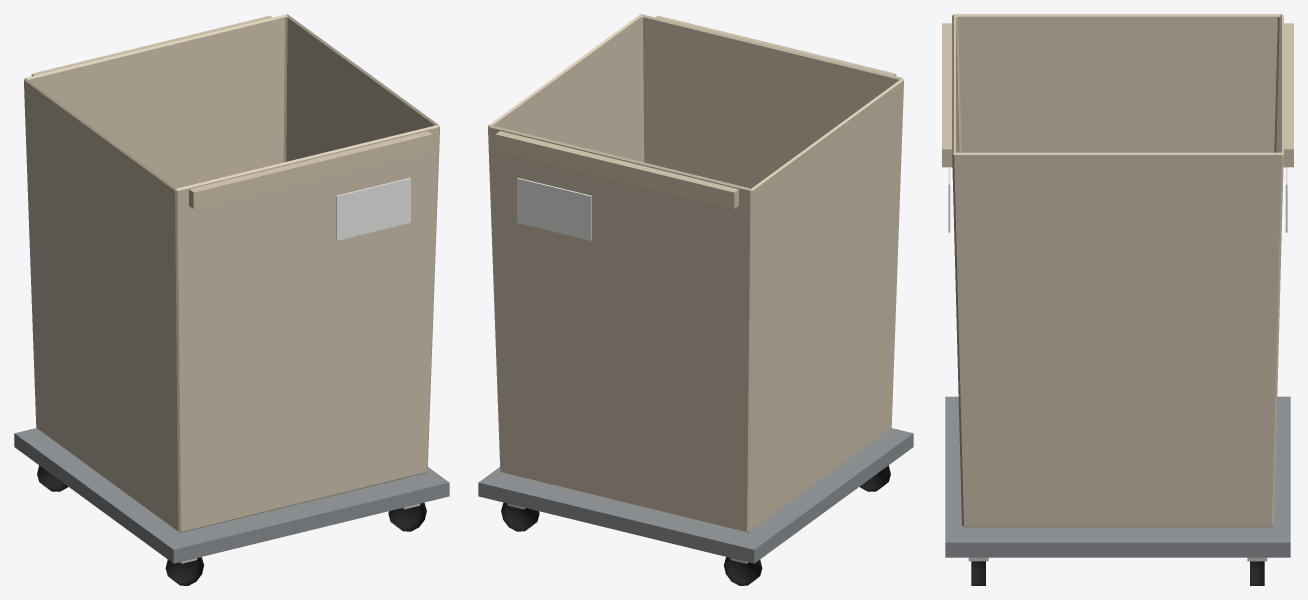
File: tsorter_bin.fbx
3 renders of one model, left to right at view 1: azimuth 30°, elevation 25°; view 2: azimuth 150°, elevation 25°; view 3: azimuth 270°, elevation 25°, orthographic. The views are drawn at different scales.
Visible parts, largest first — view 1: TSorterBin; view 2: TSorterBin; view 3: TSorterBin.
Part boxes in pixels (bbox=[...]): TSorterBin: bbox=[14, 14, 449, 585]; TSorterBin: bbox=[478, 14, 913, 585]; TSorterBin: bbox=[942, 14, 1293, 585].
Bounding box in the file's own units: 0.52 × 0.735 × 0.53.
